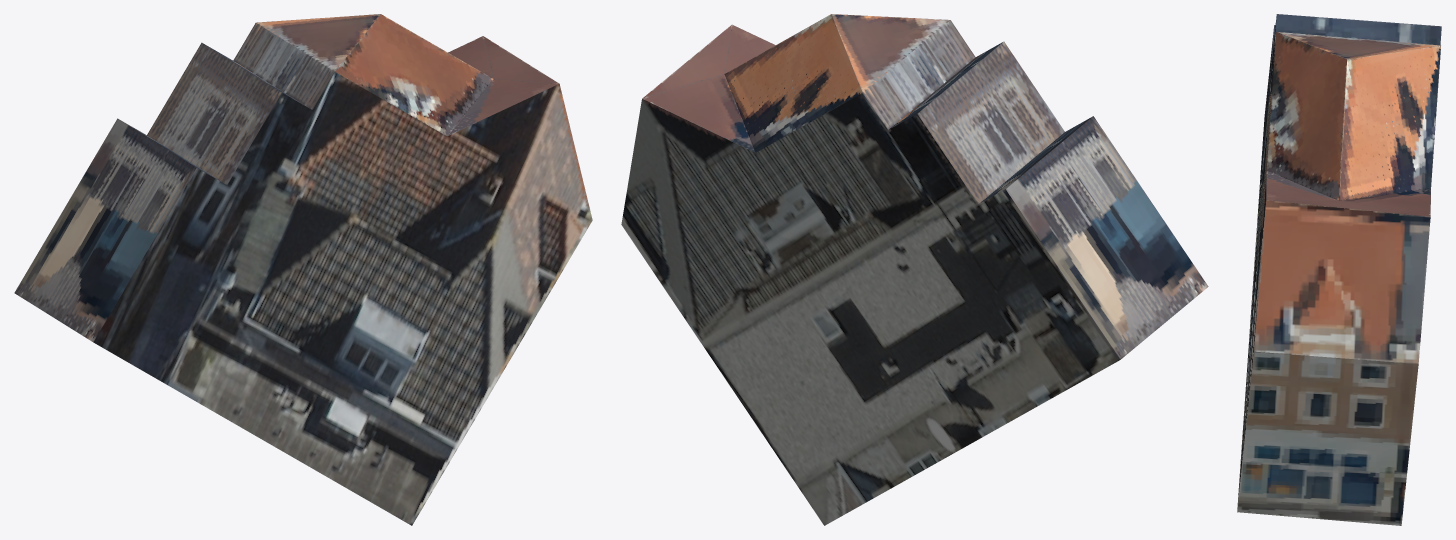
The picture shows the model from 3 angles, left to right: view 1: azimuth 30°, elevation 25°; view 2: azimuth 150°, elevation 25°; view 3: azimuth 270°, elevation 25°; orthographic projection. The views are drawn at different scales.
Visible parts, largest first — view 1: BAG_0599100000760369 (×4); view 2: BAG_0599100000760369 (×4); view 3: BAG_0599100000760369 (×3).
Boxes of the visible parts, box(x1,y1,x2,y2) form: BAG_0599100000760369 (×4): box(14, 14, 592, 525); BAG_0599100000760369 (×4): box(621, 14, 1208, 525); BAG_0599100000760369 (×3): box(1237, 14, 1441, 525).
Size of the model in its own units: 18.91 by 17.29 by 6.73.
Materials: 4 (4 with a texture image).
